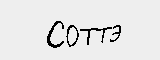І: (47, 21, 56, 36)
Б: (30, 18, 46, 34), (55, 21, 70, 37)
Г: (68, 24, 81, 38)
М: (82, 23, 108, 43)
П: (110, 23, 134, 45)
